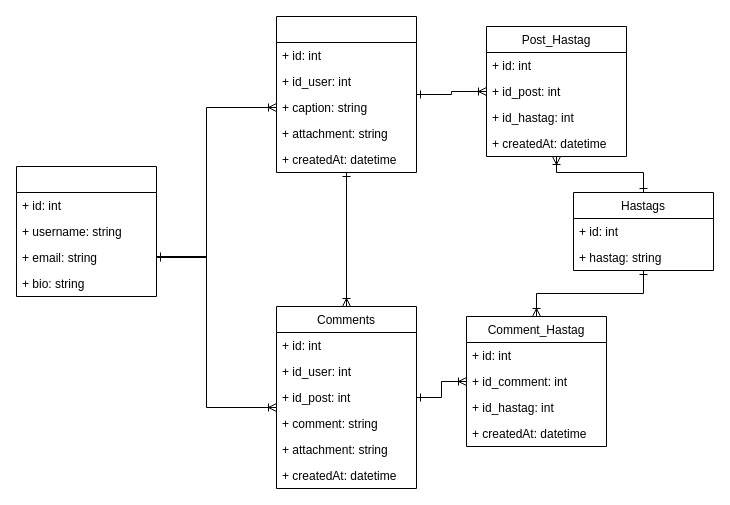
Some shapes in this 730 by 505 pixel diagram are drawn without their labels. The box of each missing label's shape, as (x1, y1, x2, y2) in pixels:
Posts: (276, 16, 416, 172)
Users: (16, 166, 156, 296)
